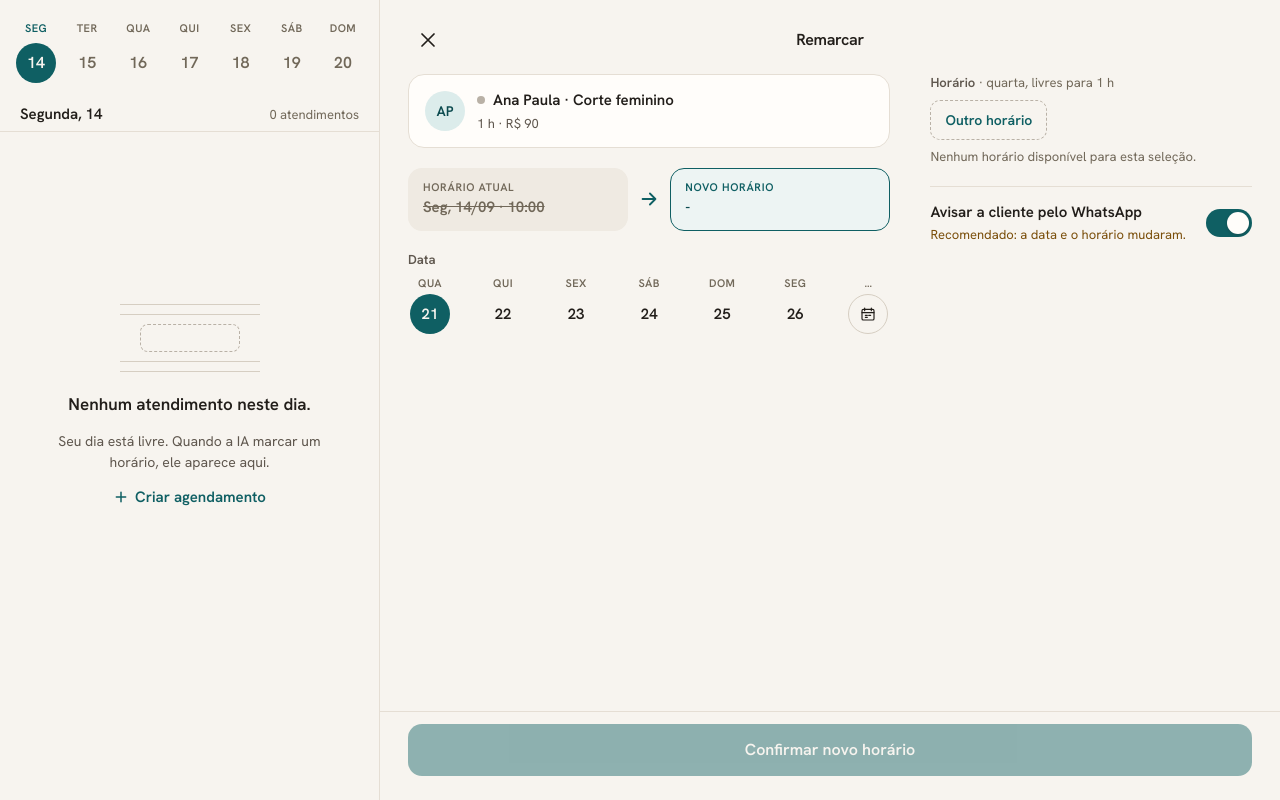
Scenario: ShellConfigProvider + Reagendar não excede a profundidade de atualização › responde a digitação contínua no horário manual
Click the button "Outro horário": (989, 120) [930,100,1047,140]
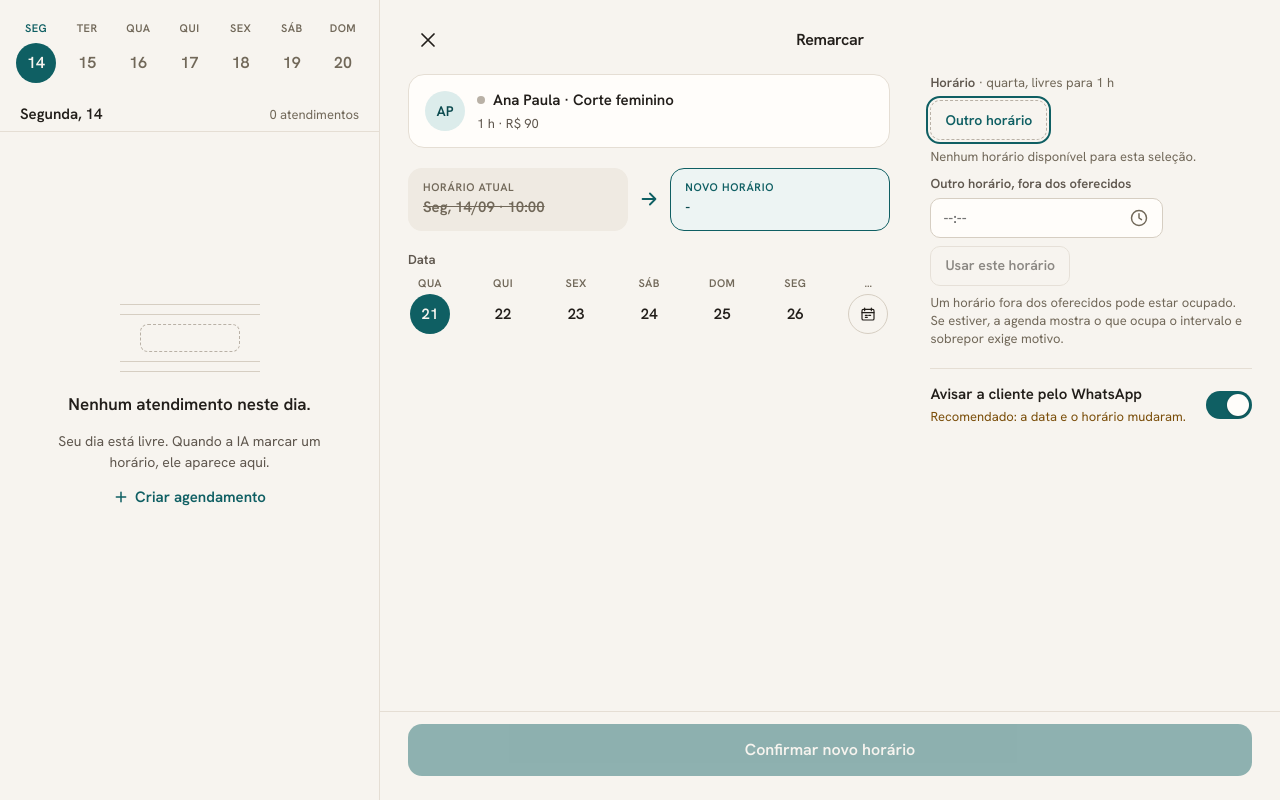
In the field labelled "Outro horário, fora dos oferecidos": (1047, 218) [930,198,1163,238], type "1400"
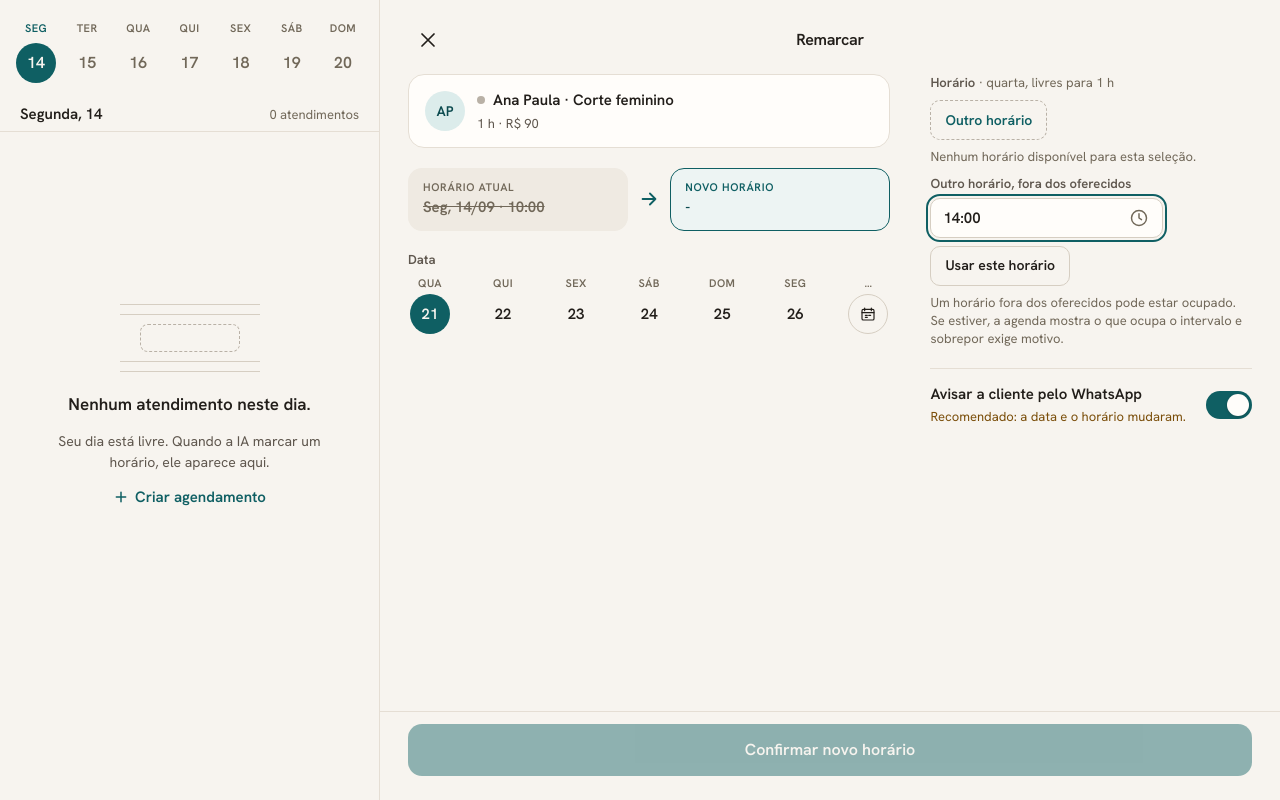
Expected: the field labelled "Outro horário, fora dos oferecidos" holds "14:00", [930,198,1163,238]
